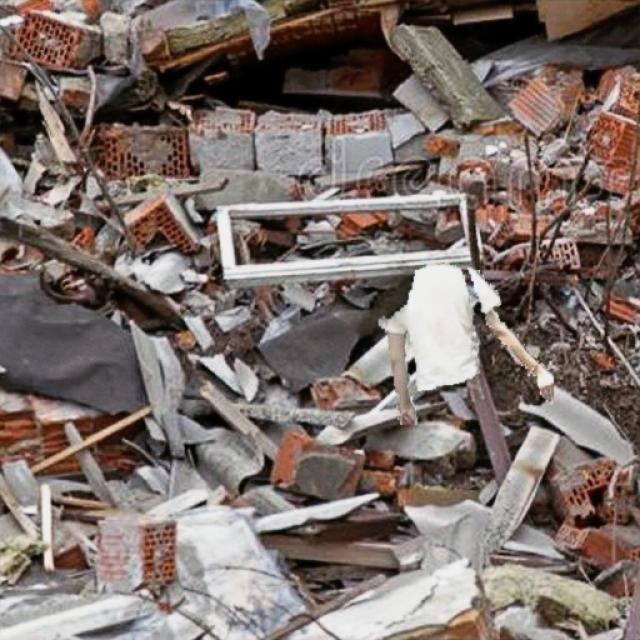Person in Rubble: (378, 262, 552, 423)
